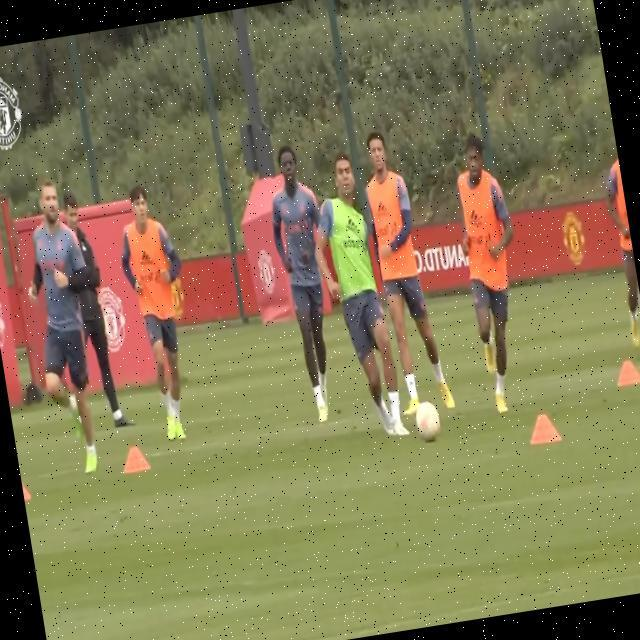Adidas: (468, 205, 485, 230), (345, 215, 362, 239), (138, 244, 155, 268), (374, 196, 391, 219)
